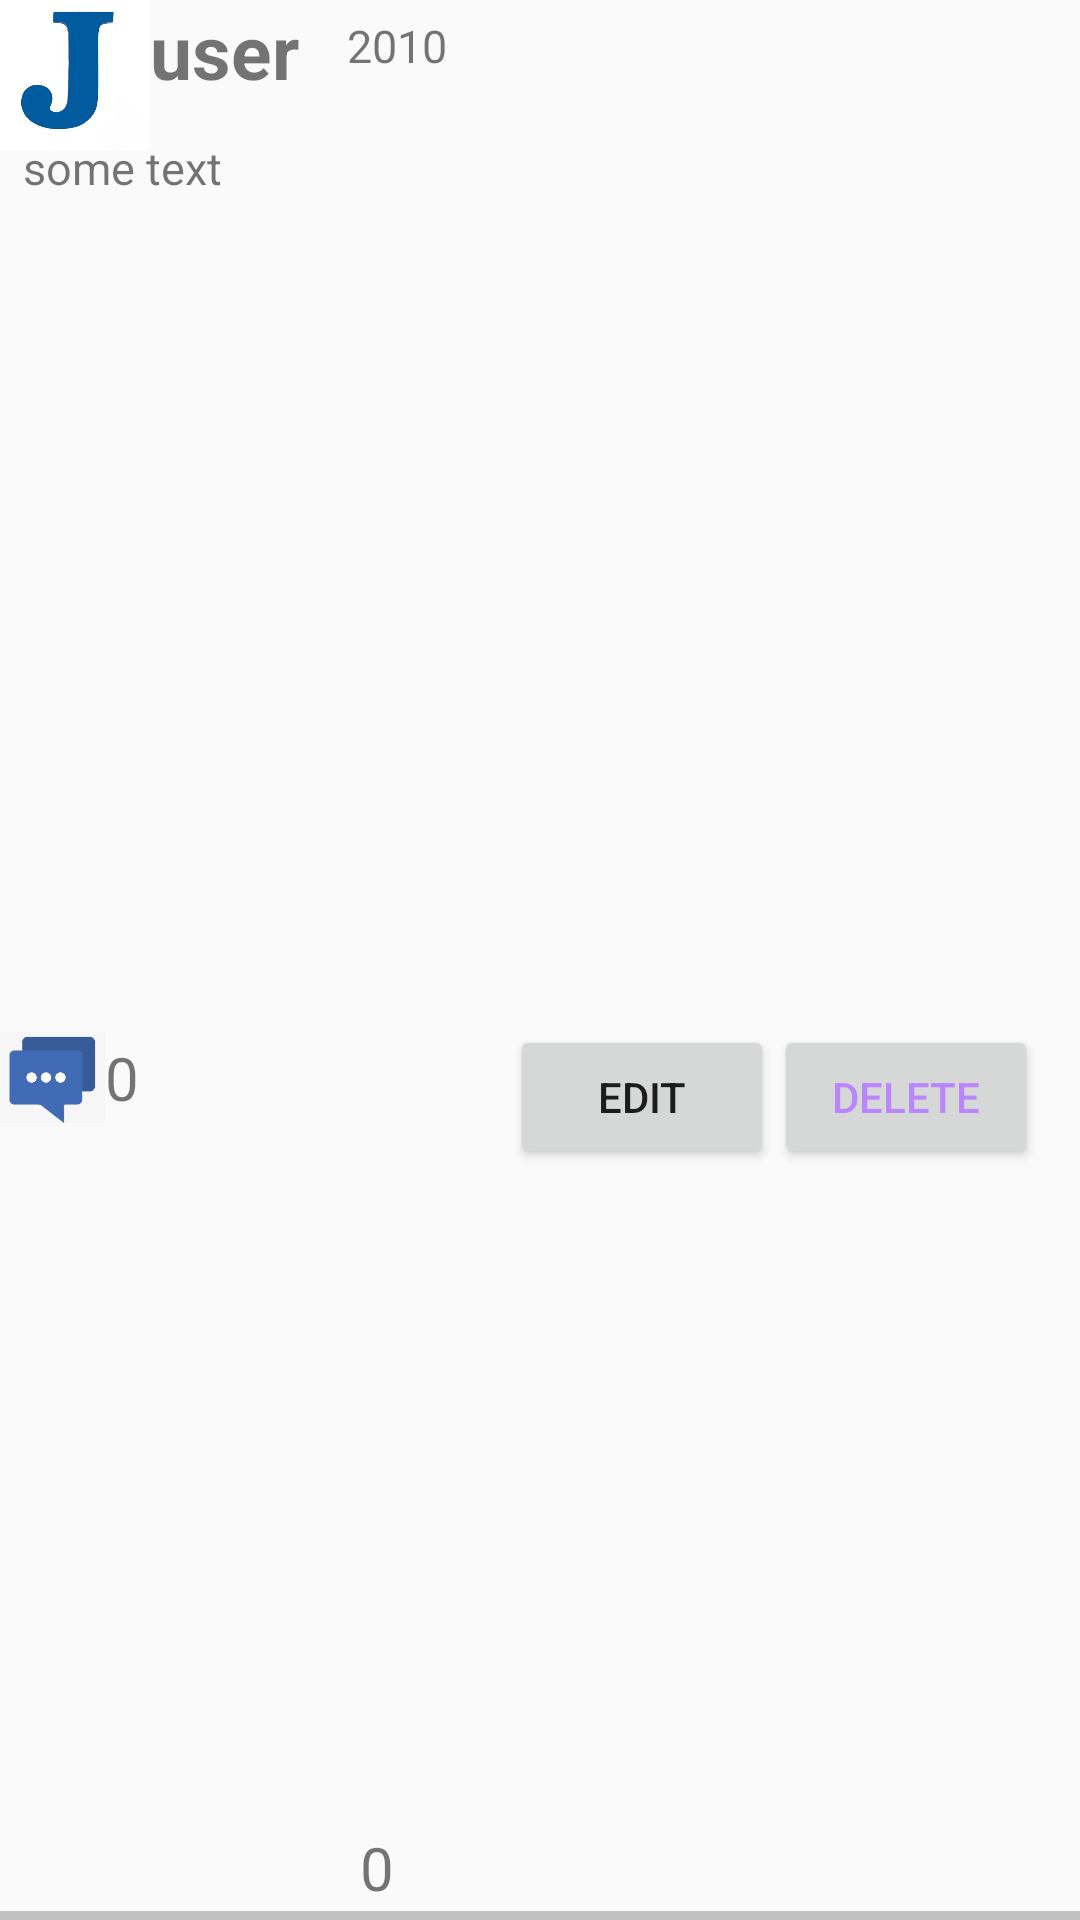

Named icons in this screenshot (1080px×1920px) and their centers, point (x, y):
comment: point (52, 1080)
